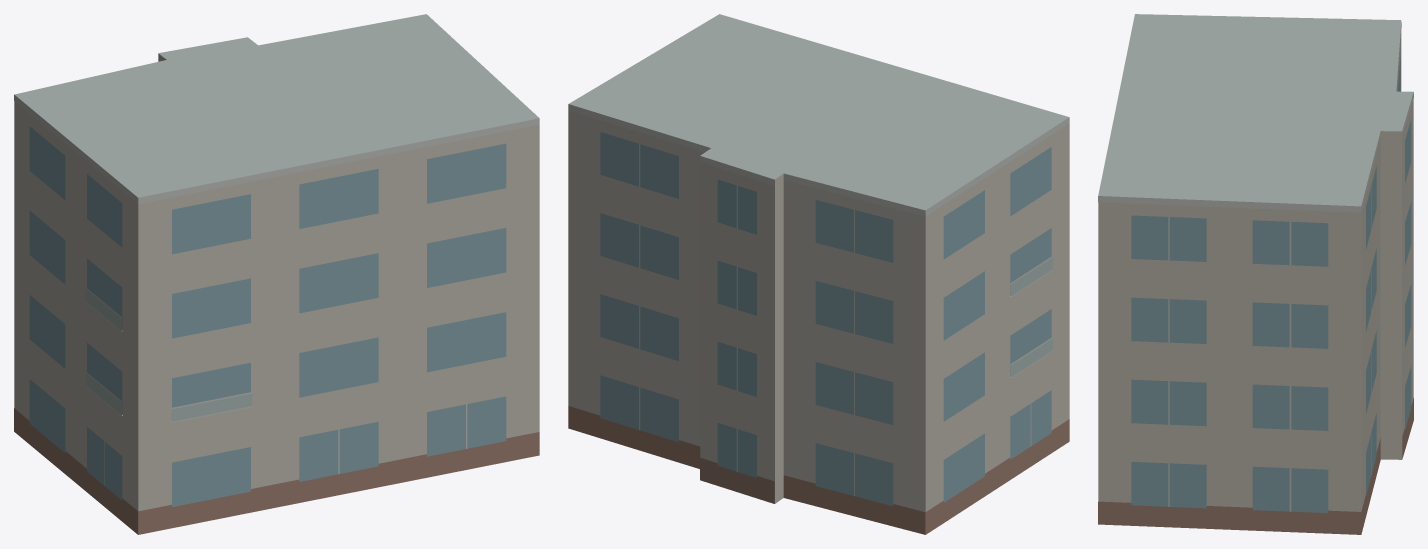
File: survey-upis-32960254.glb
3 views of the same model, side by side, from view 1: azimuth 30°, elevation 25°; view 2: azimuth 150°, elevation 25°; view 3: azimuth 270°, elevation 25° (orthographic). The views are drawn at different scales.
Visible parts, largest first — view 1: survey-upis-32960254.tmp; view 2: survey-upis-32960254.tmp; view 3: survey-upis-32960254.tmp.
Part boxes in pixels (x1,y1,x2,y2): survey-upis-32960254.tmp: (14,14,539,534); survey-upis-32960254.tmp: (568,14,1069,534); survey-upis-32960254.tmp: (1098,14,1413,534).
Bounding box in the file's own units: 15.96 × 12.7 × 11.07.
